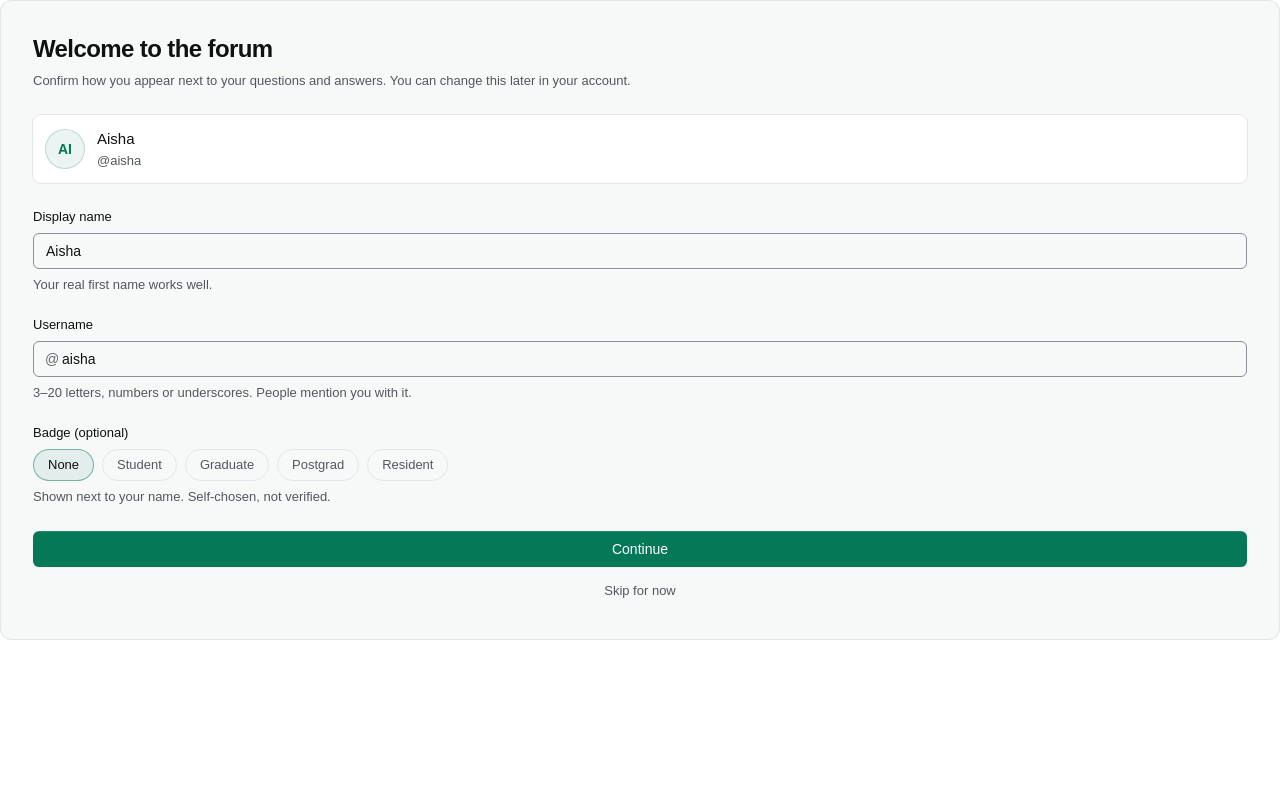
Test: WelcomeForm › marks the username invalid on a username error and clears it on edit
Click the button "Continue". click: click(640, 549)
box: [33, 531, 1247, 567]
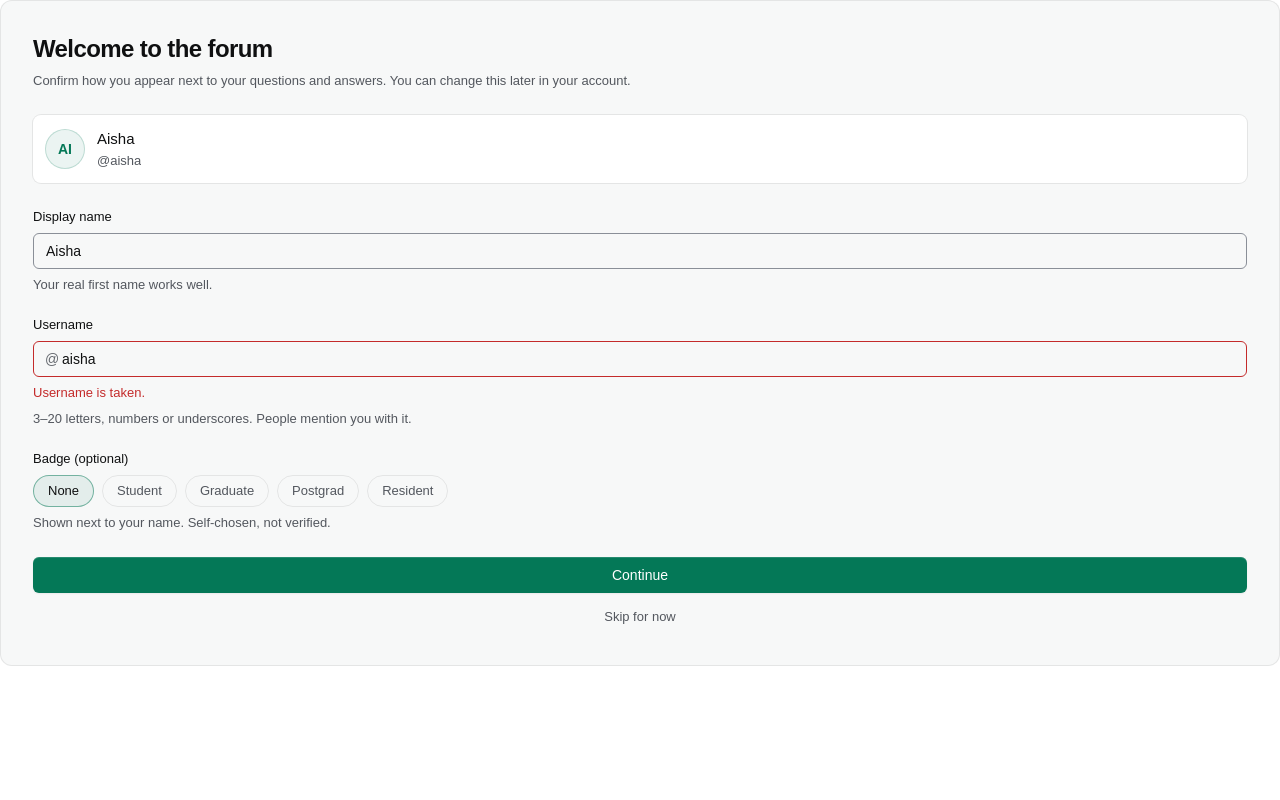
Expected: the text "Username is taken." is shown, [33, 385, 145, 400]
Type "x" into the field labelled "Username". click: (640, 359)
box: [33, 341, 1247, 377]
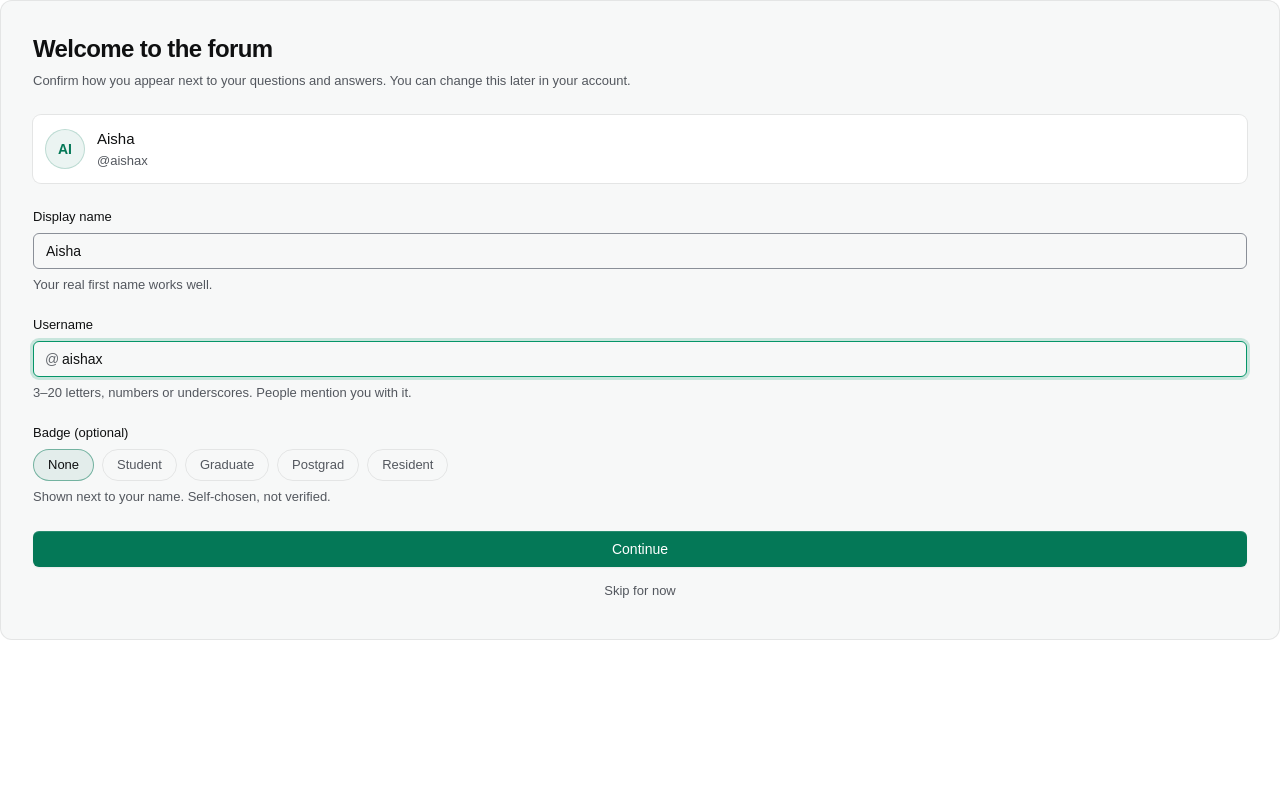
Expected: the text "Username is taken." is gone
